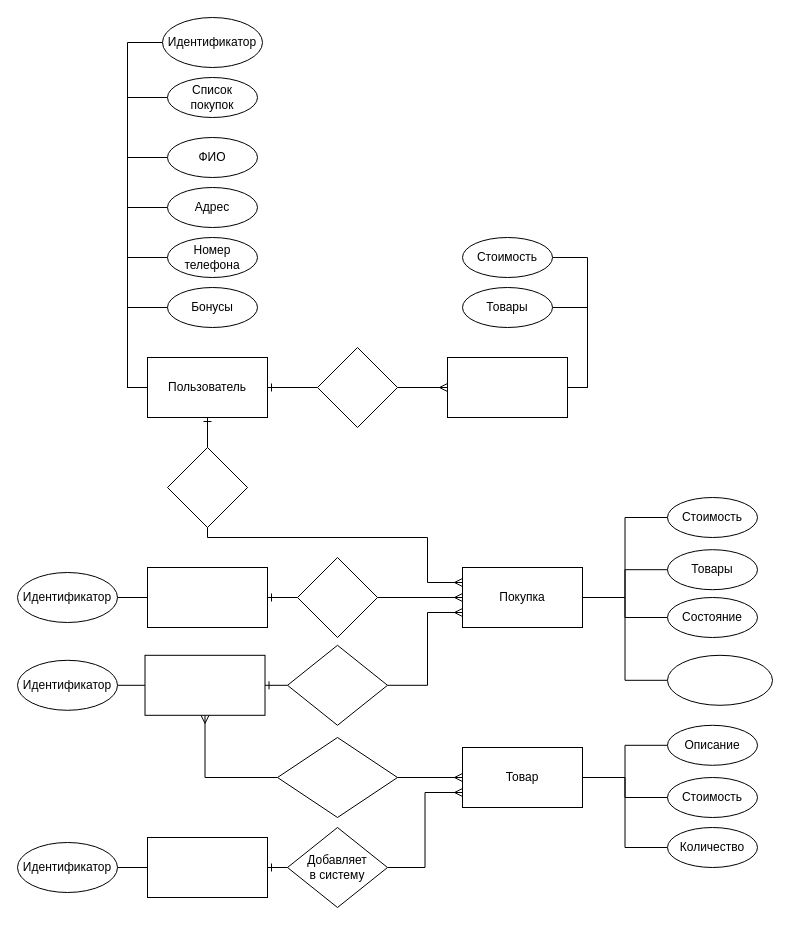
Some shapes in this 790 by 925 pixel diagram are drawn without their labels. The centre of each missing label's shape, as x and y in pixels:
"Администратор" goes at point 207,867.
"Доставляет" goes at point 337,597.
"Идентификатор покупателя" goes at point 719,679.
"Корзина" goes at point 507,387.
"Курьер" goes at point 207,597.
"Оплачивает" goes at point 207,487.
"Подтверждает" goes at point 337,684.
"Помещает товар в" goes at point 357,387.
"Редактирует описание" goes at point 337,777.
"Редактор" goes at point 204,684.
